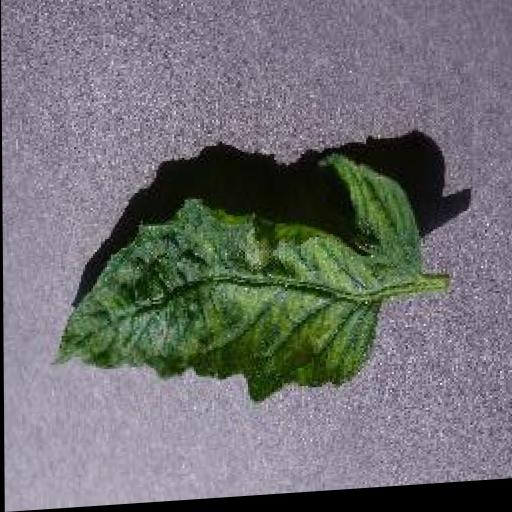Mosaic Virus: (47, 151, 424, 419)
